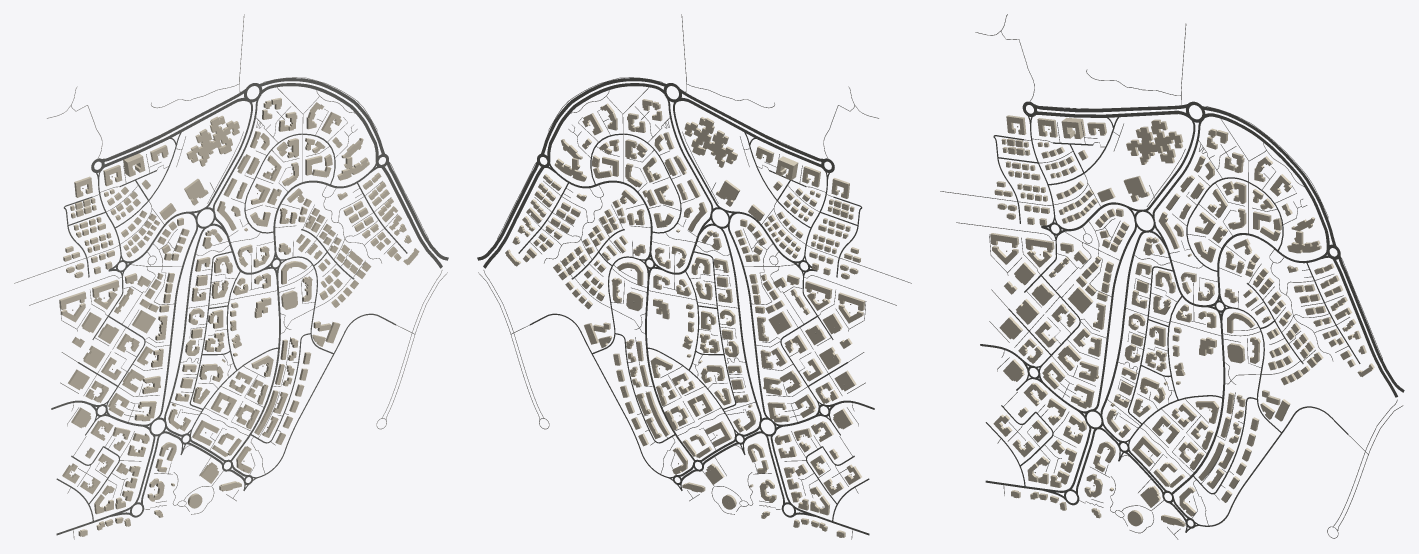
File: historic-palestine-06_18_3480_3128.glb
3 renders of one model, left to right at view 1: azimuth 30°, elevation 25°; view 2: azimuth 150°, elevation 25°; view 3: azimuth 330°, elevation 25°, orthographic. The views are drawn at different scales.
Visible parts, largest first — view 1: Building_.178, Road שדרות צה"ל.004, Road שדרות צה"ל, Road שדרות צה"ל.002, Road שדרות צה"ל.001; view 2: Building_.178, Road שדרות צה"ל.004, Road שדרות צה"ל, Road שדרות צה"ל.002, Road שדרות צה"ל.001; view 3: Building_.178, Road שדרות צה"ל.004, Road שדרות צה"ל, Road שדרות צה"ל.002, Road שדרות צה"ל.001.
Part boxes in pixels (left/top/right/bottom): Building_.178: left=186, top=115, right=239, bottom=166; Road שדרות צה"ל.004: left=258, top=78, right=385, bottom=155; Road שדרות צה"ל: left=260, top=83, right=378, bottom=161; Road שדרות צה"ל.002: left=102, top=97, right=247, bottom=168; Road שדרות צה"ל.001: left=101, top=88, right=247, bottom=161; Building_.178: left=684, top=117, right=737, bottom=167; Road שדרות צה"ל.004: left=541, top=78, right=666, bottom=155; Road שדרות צה"ל: left=547, top=83, right=665, bottom=161; Road שדרות צה"ל.002: left=678, top=97, right=823, bottom=168; Road שדרות צה"ל.001: left=678, top=88, right=824, bottom=161; Building_.178: left=1126, top=119, right=1183, bottom=164; Road שדרות צה"ל.004: left=1201, top=106, right=1336, bottom=247; Road שדרות צה"ל: left=1203, top=113, right=1329, bottom=250; Road שדרות צה"ל.002: left=1034, top=110, right=1190, bottom=117; Road שדרות צה"ל.001: left=1033, top=104, right=1189, bottom=112.
Bounding box in the file's own units: 1166 × 1251 × 22.9.
